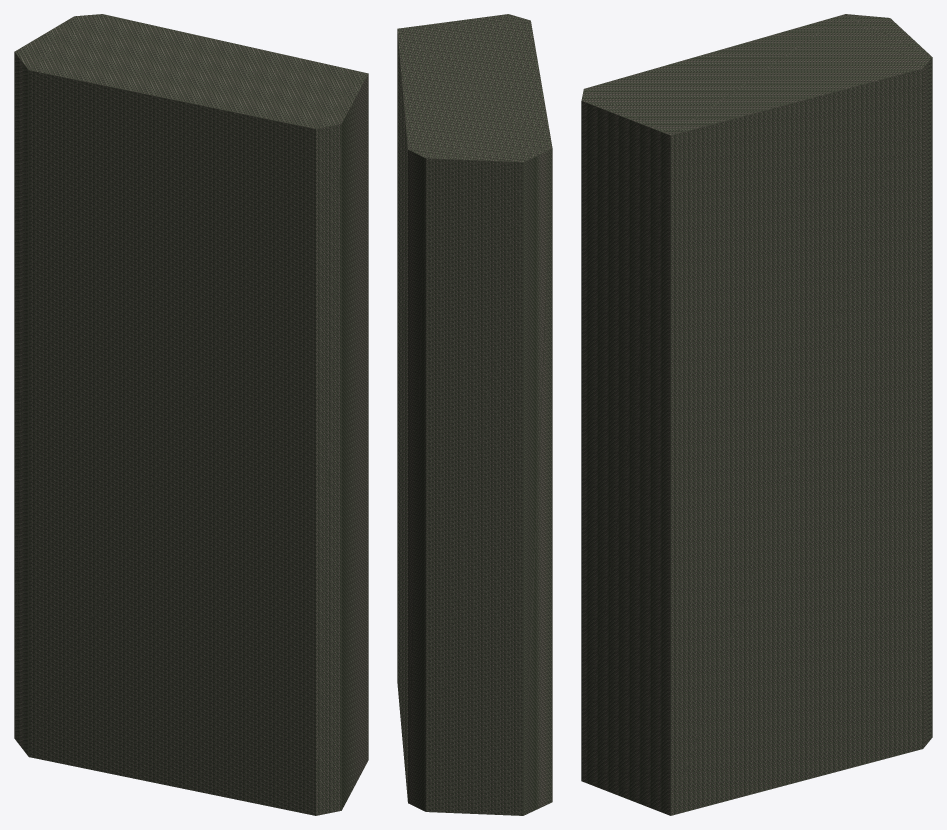
Rendered from OfficeBuilding.fbx.
3 renders of one model, left to right at view 1: azimuth 30°, elevation 25°; view 2: azimuth 150°, elevation 25°; view 3: azimuth 270°, elevation 25°, orthographic. The views are drawn at different scales.
Visible parts, largest first — view 1: OfficeBuilding; view 2: OfficeBuilding; view 3: OfficeBuilding.
Boxes of the visible parts, box(x1,y1,x2,y2) form: OfficeBuilding: box(14, 14, 368, 815); OfficeBuilding: box(397, 14, 552, 815); OfficeBuilding: box(581, 14, 932, 815).
Size of the model in its own units: 19154 by 50000 by 23376.
